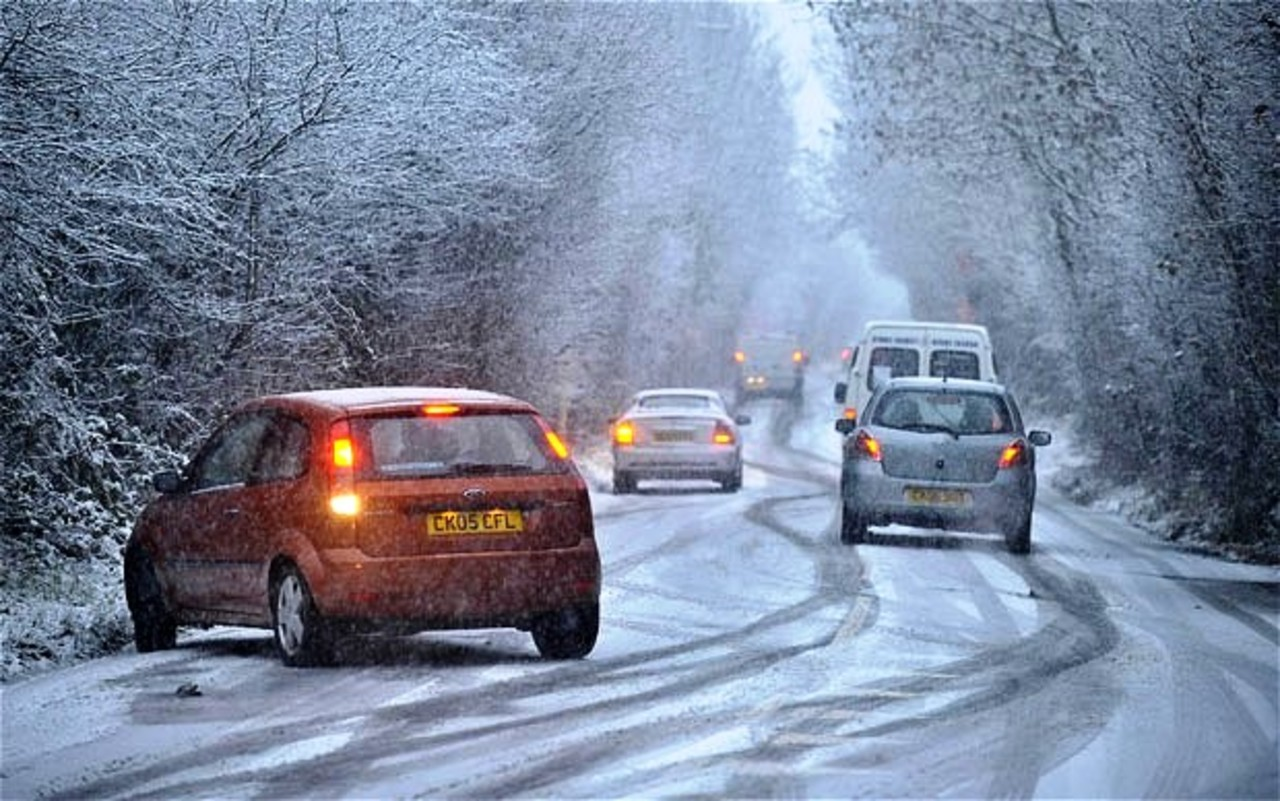car: (122, 383, 601, 664), (837, 377, 1044, 551), (837, 319, 1003, 434), (606, 390, 745, 494), (729, 330, 805, 408)
